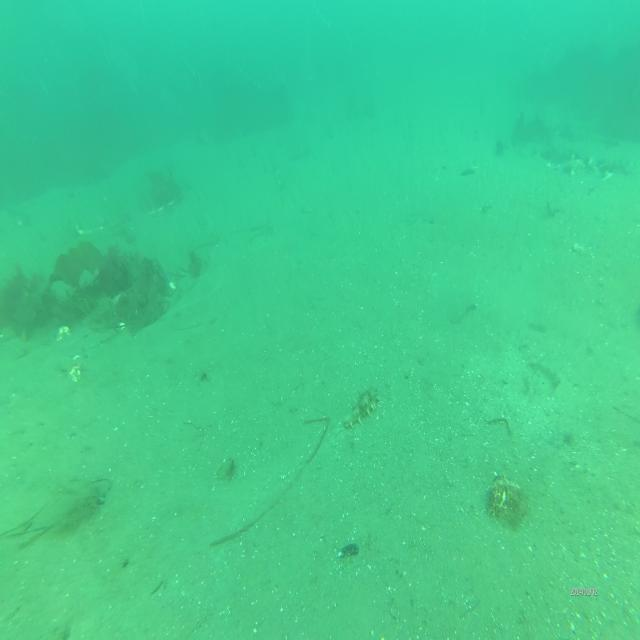holothurian: (343, 383, 382, 427)
scallop: (220, 454, 237, 486), (56, 322, 72, 342), (167, 274, 177, 294), (114, 321, 127, 332)
